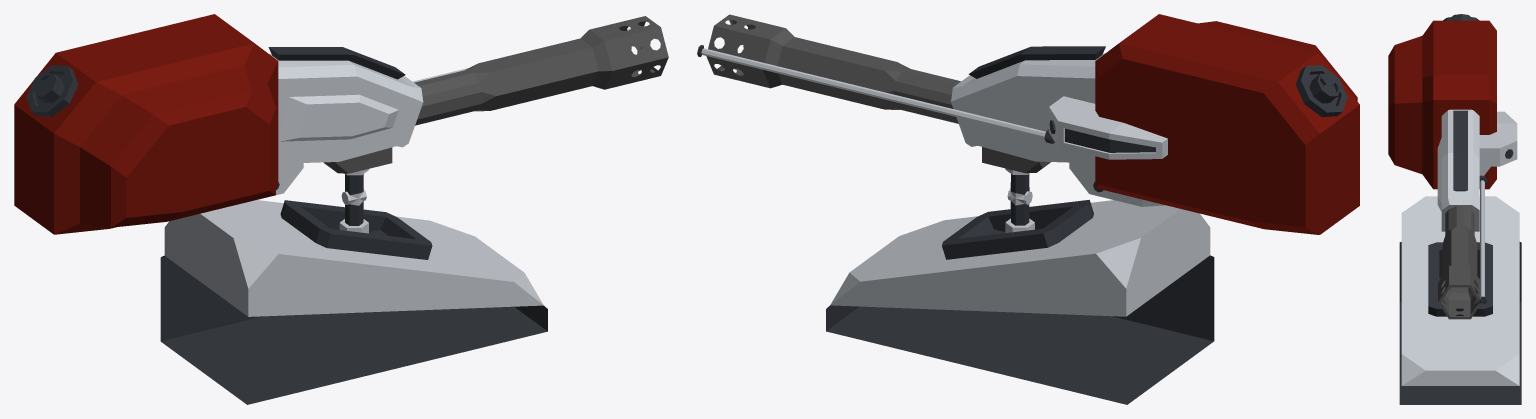
The model's file is lancaChamas1.glb.
3 views of the same model, side by side, from view 1: azimuth 30°, elevation 25°; view 2: azimuth 150°, elevation 25°; view 3: azimuth 270°, elevation 25° (orthographic). The views are drawn at different scales.
Parts seen in each view (by area): view 1: Turret.001, Base.001; view 2: Turret.001, Base.001; view 3: Turret.001, Base.001.
Boxes of the visible parts, <box> form: Turret.001: <box>14,14,668,234</box>; Base.001: <box>160,200,547,404</box>; Turret.001: <box>697,14,1359,234</box>; Base.001: <box>826,199,1214,404</box>; Turret.001: <box>1388,14,1517,319</box>; Base.001: <box>1399,196,1521,404</box>.
Size of the model in its own units: 4.17 by 2.16 by 1.09.
